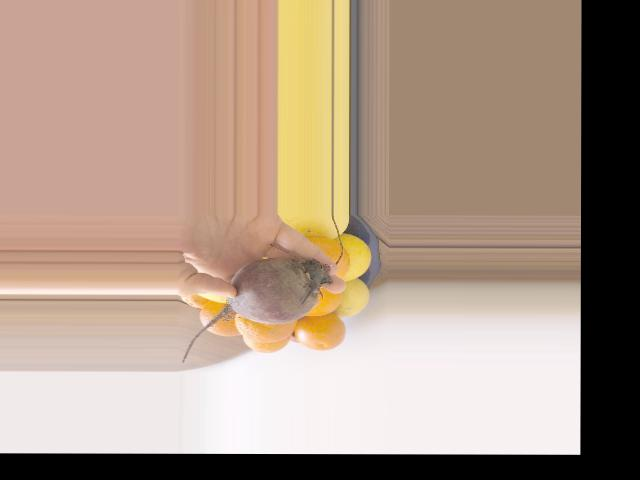beet: (182, 257, 330, 362)
